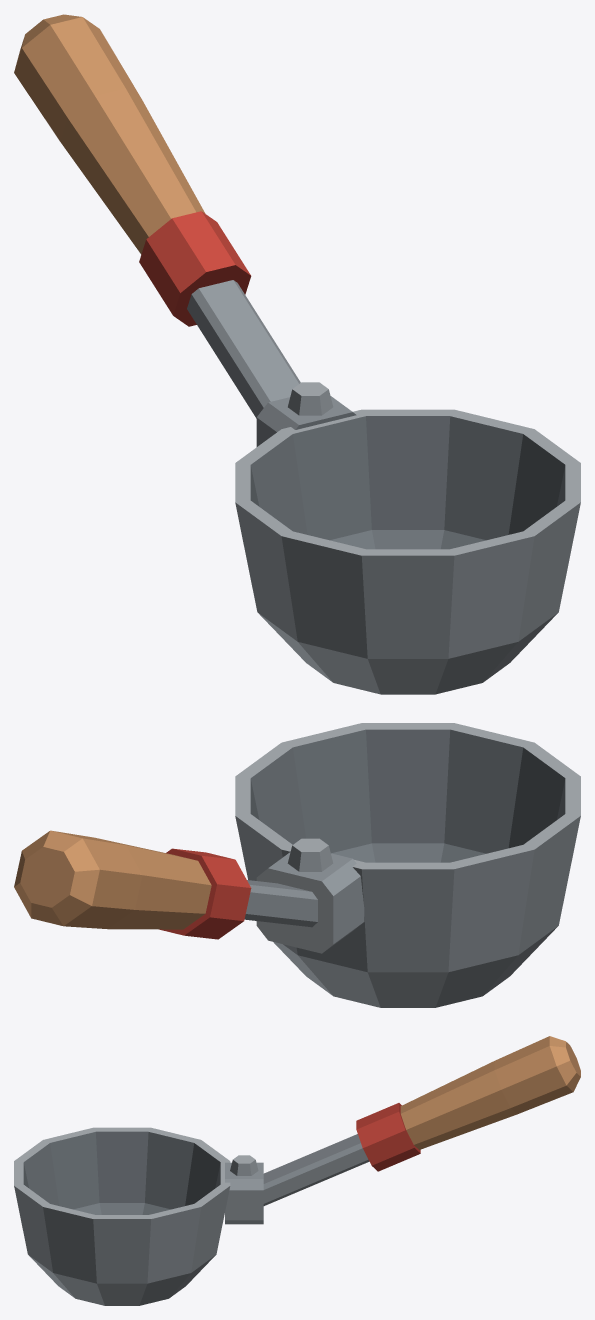
Rendered from FMS_Workshop_TOL_05.fbx.
3 views of the same model, one above another, from view 1: azimuth 30°, elevation 25°; view 2: azimuth 150°, elevation 25°; view 3: azimuth 270°, elevation 25° (orthographic). The views are drawn at different scales.
Parts seen in each view (by area): view 1: FMS_Workshop_TOL_05_Body; view 2: FMS_Workshop_TOL_05_Body; view 3: FMS_Workshop_TOL_05_Body.
Part boxes in pixels (x1,y1,x2,y2): FMS_Workshop_TOL_05_Body: [14, 14, 580, 694]; FMS_Workshop_TOL_05_Body: [14, 723, 580, 1007]; FMS_Workshop_TOL_05_Body: [14, 1036, 580, 1305].
Bounding box in the file's own units: 0.156 × 0.1894 × 0.4088.
Materials: 1 (1 with a texture image).
